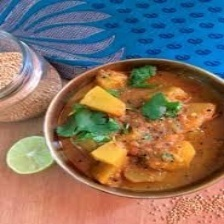sabzi: (53, 61, 224, 195)
